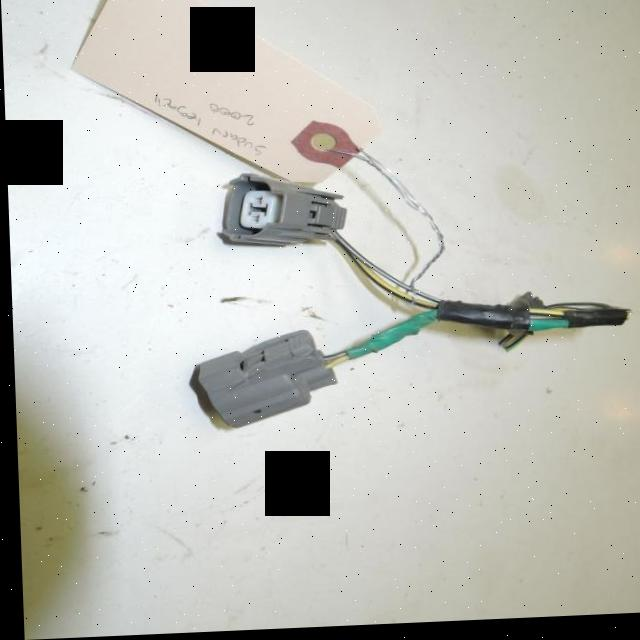cable: (321, 238, 625, 370)
connector: (190, 334, 333, 429), (217, 176, 344, 249)
label: (73, 0, 375, 188)
